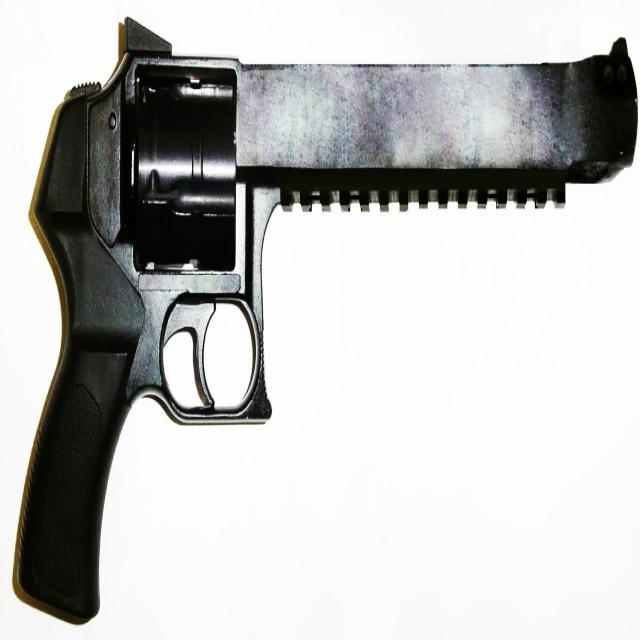pistol: (12, 35, 640, 625)
